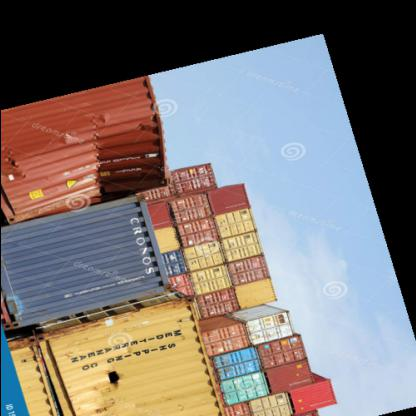Damage: (83, 126, 171, 210), (89, 360, 139, 402)
